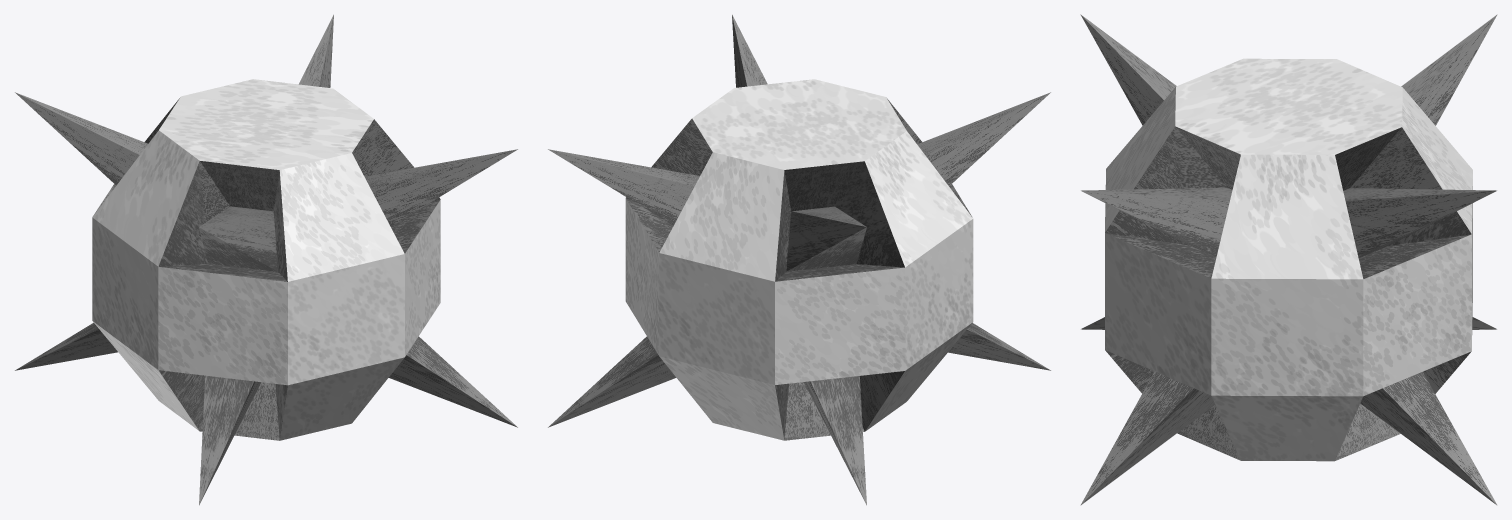
Rendered from WhiteBloodCell_Textured.fbx.
The picture shows the model from 3 angles, left to right: view 1: azimuth 30°, elevation 25°; view 2: azimuth 150°, elevation 25°; view 3: azimuth 270°, elevation 25°; orthographic projection. The views are drawn at different scales.
Parts seen in each view (by area): view 1: WBC; view 2: WBC; view 3: WBC.
Part boxes in pixels (x1,y1,x2,y2): WBC: [15, 14, 517, 505]; WBC: [548, 14, 1050, 505]; WBC: [1080, 14, 1497, 505].
Size of the model in its own units: 12 by 10 by 12.
Materials: 1 (1 with a texture image).
